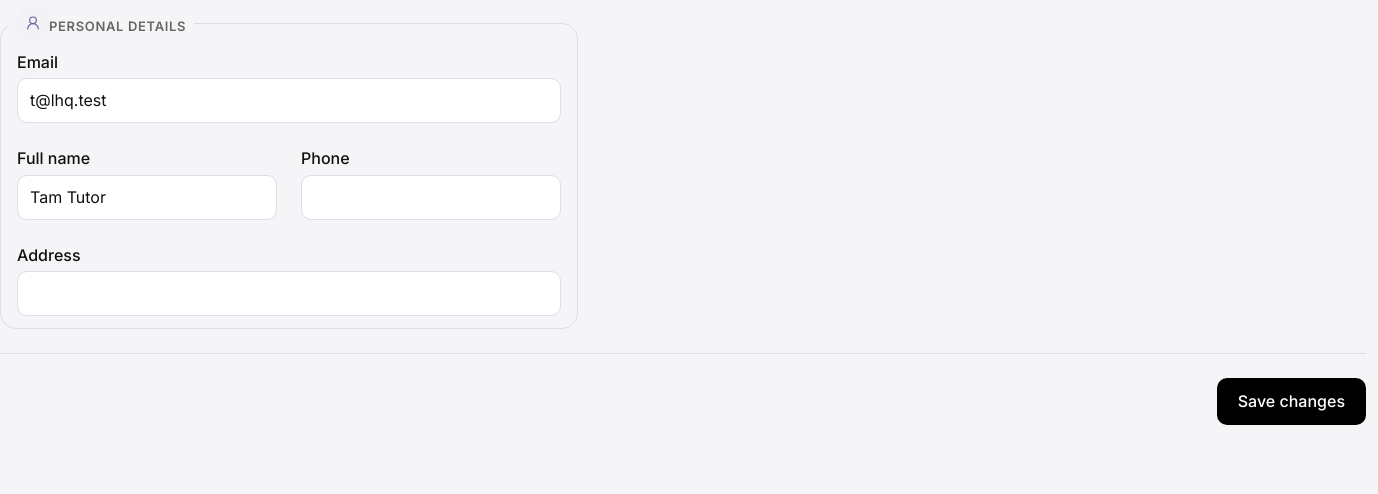
Test: UserEditForm layout › shows field errors from the server and no toast
Click the button "Save changes": (1291, 402) [1217, 378, 1366, 425]
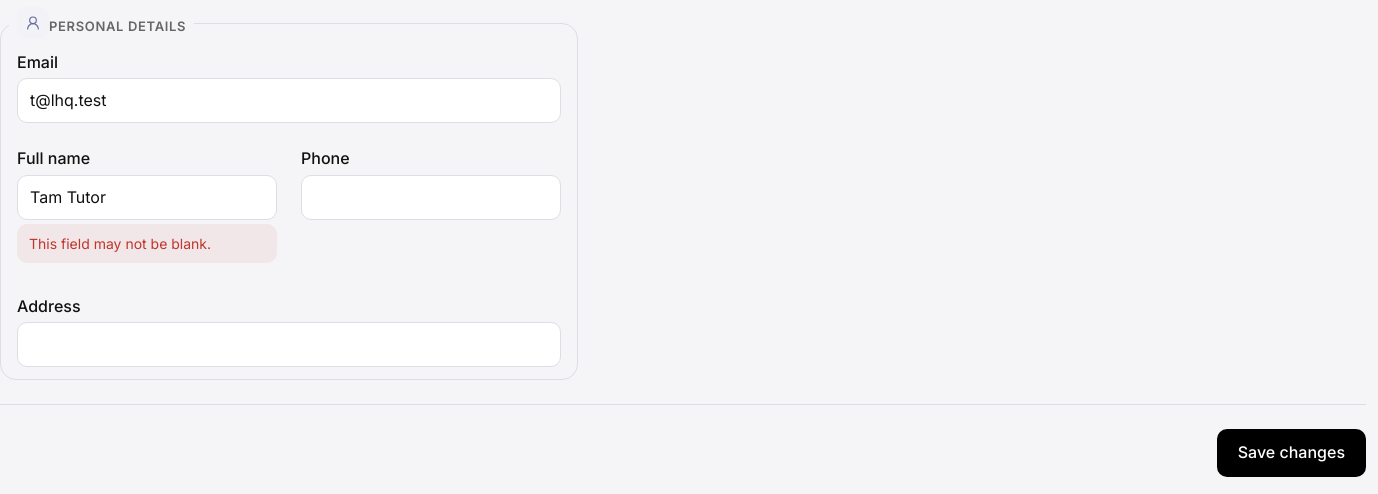
Result: the list item "This field may not be blank." is shown at [29, 235, 211, 252]
